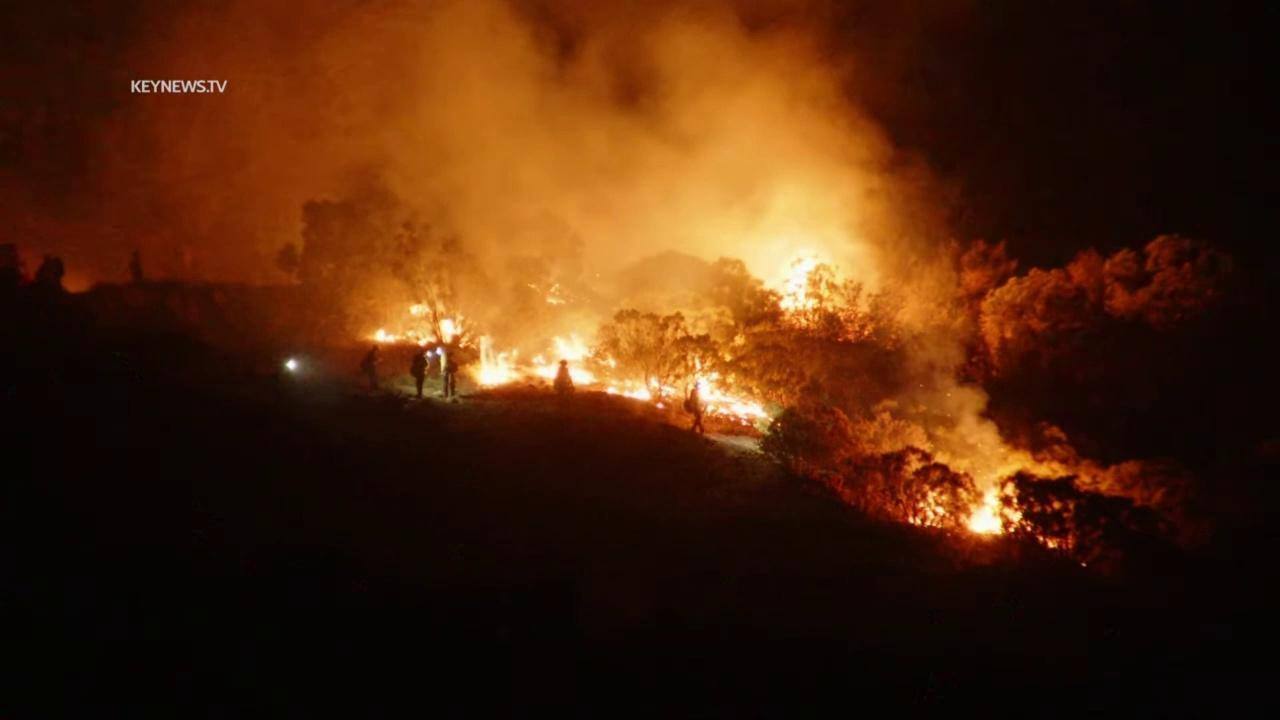fire: (602, 352, 782, 428), (906, 476, 1027, 539), (530, 330, 600, 389), (774, 248, 826, 316), (465, 334, 519, 392), (405, 318, 472, 349), (543, 280, 571, 307), (370, 325, 401, 343), (1035, 532, 1060, 551), (408, 303, 434, 316)
smoke: (0, 0, 1003, 490)
